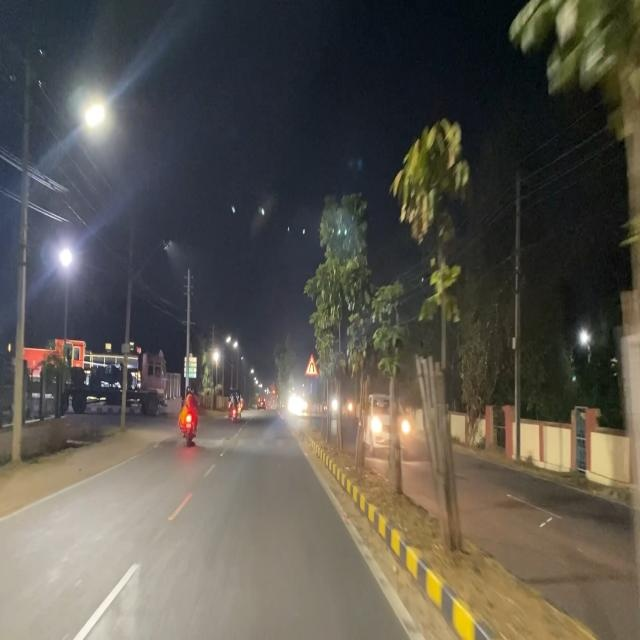bien_nguy_hiem: (304, 353, 319, 377)
